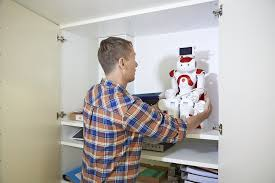nao: (154, 55, 212, 143)
